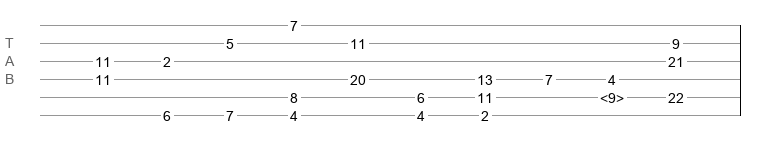11: (95, 72, 111, 82), (95, 54, 111, 64), (350, 36, 366, 46), (477, 90, 493, 100)
13: (477, 72, 493, 82)
2: (163, 54, 171, 64), (481, 108, 489, 118)
20: (350, 72, 366, 82)
21: (668, 54, 684, 64)
22: (668, 90, 684, 100)
4: (290, 108, 298, 118), (417, 108, 425, 118), (608, 72, 616, 82)
5: (226, 36, 234, 46)
6: (163, 108, 171, 118), (417, 90, 425, 100)
7: (226, 108, 234, 118), (290, 18, 298, 28), (545, 72, 553, 82)
8: (290, 90, 298, 100)
9: (672, 36, 680, 46)
harmonic: (600, 90, 624, 100)
